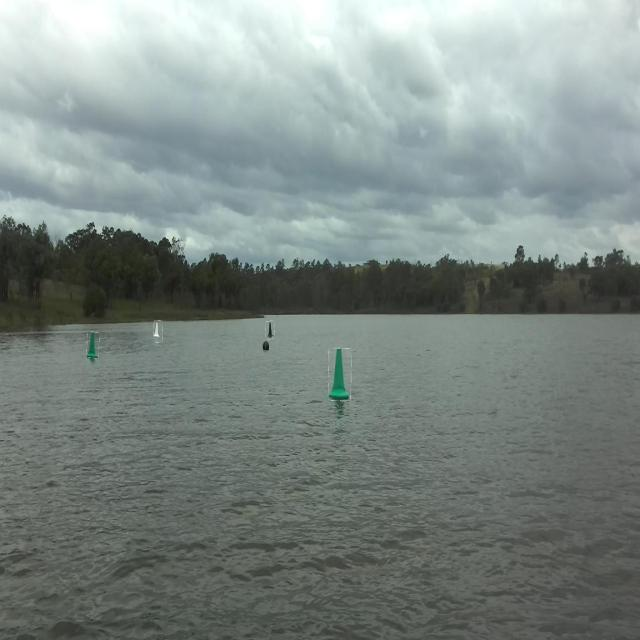Black_Buoy: (260, 317, 282, 348), (264, 337, 278, 365)
Green_Buoy: (328, 339, 354, 405), (84, 332, 105, 359)
White_Buoy: (150, 318, 167, 356)
